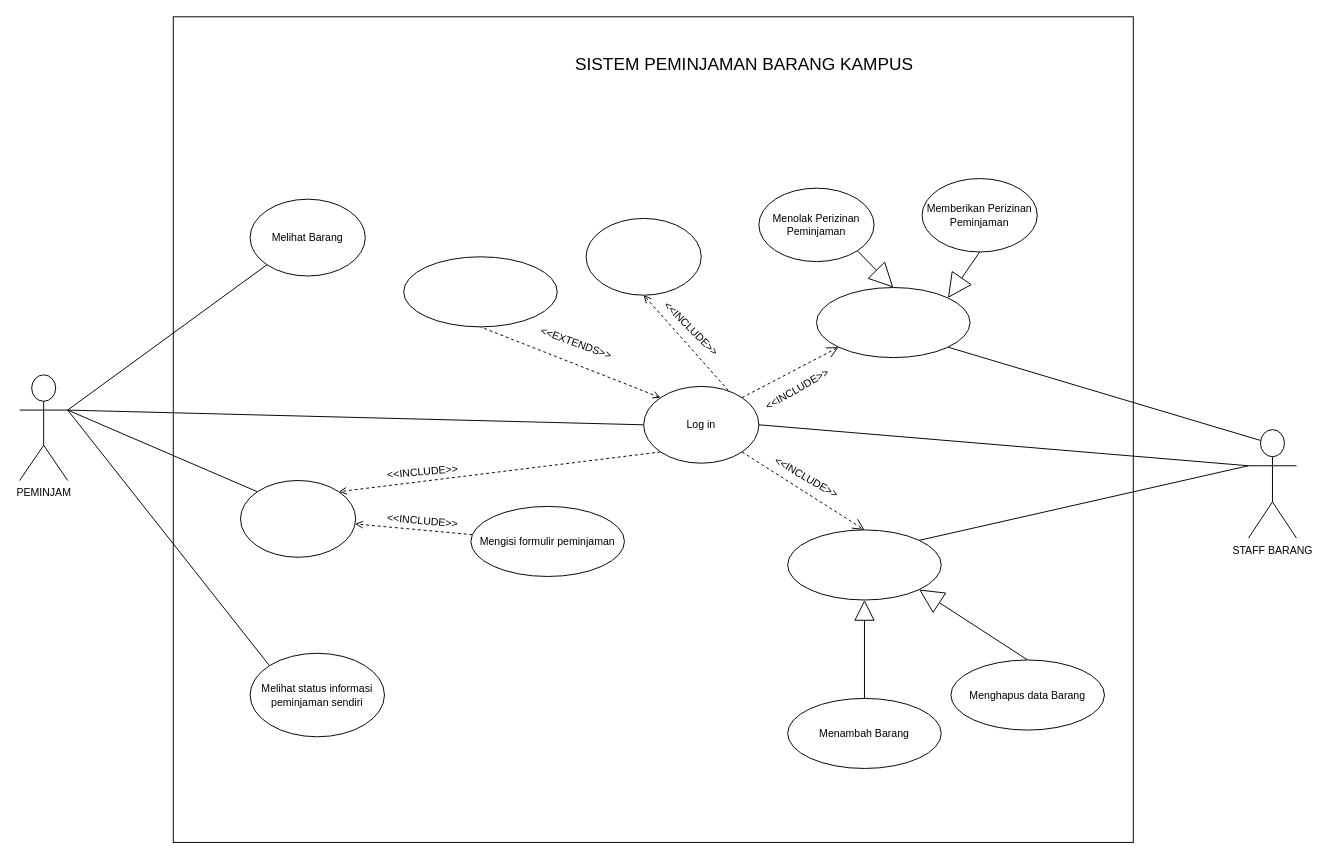
This 1330x859 diagram has some shape labels left out. Each missing label, with the centre of its shape:
"Display Error" belongs at [480,291].
"Meminjam Barang" belongs at [298,518].
"Mengelola barang" belongs at [864,564].
"Mengelola Perizinan Peminjaman" belongs at [893,322].
"Validasi User" belongs at [643,256].
